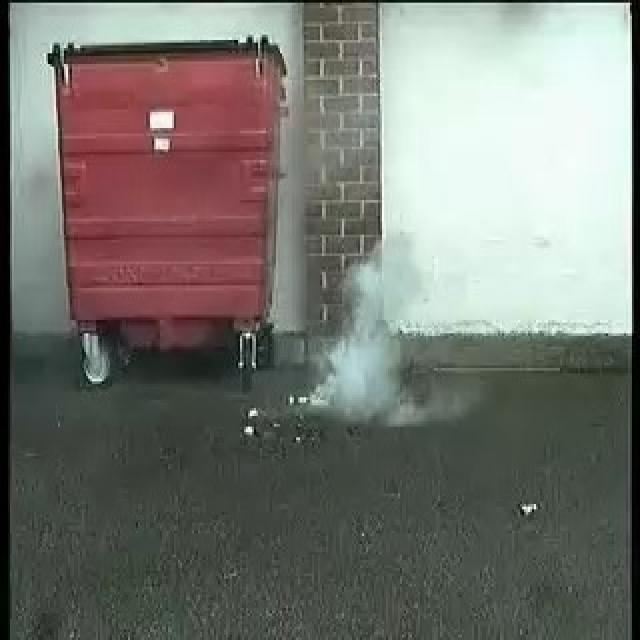smoke: (310, 248, 421, 414)
